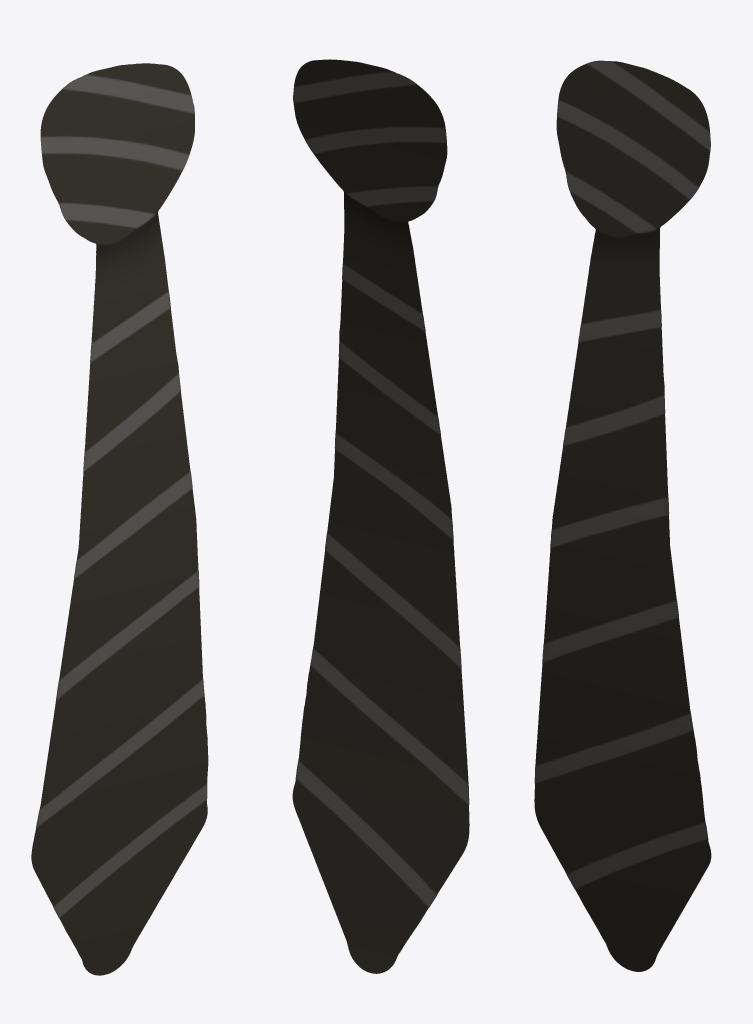
The model's file is accesorio_esqueleto_corbata_FBX.FBX.
3 renders of one model, left to right at view 1: azimuth 30°, elevation 25°; view 2: azimuth 150°, elevation 25°; view 3: azimuth 330°, elevation 25°, orthographic.
Visible parts, largest first — view 1: accesorio_esqueleto_corbata; view 2: accesorio_esqueleto_corbata; view 3: accesorio_esqueleto_corbata.
Boxes of the visible parts, x1,y1,x2,y2 form: accesorio_esqueleto_corbata: (31,63,208,975); accesorio_esqueleto_corbata: (292,59,469,973); accesorio_esqueleto_corbata: (534,60,711,971).
Size of the model in its own units: 4.93 by 22.97 by 1.24.
